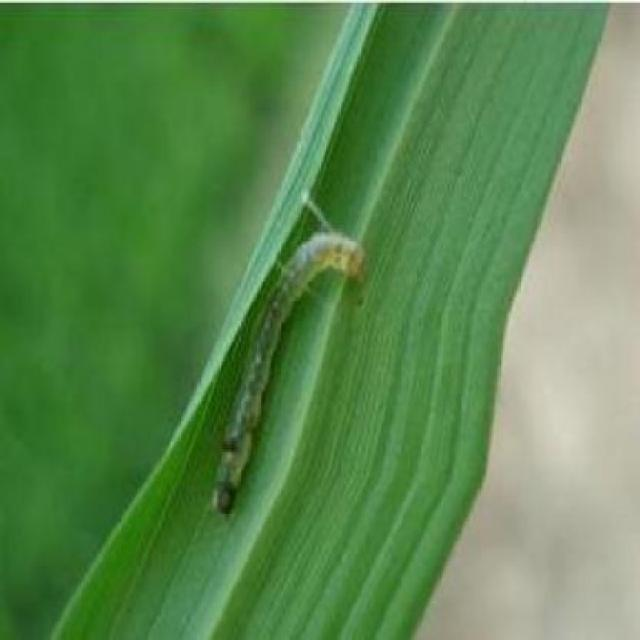leaf-folder: (205, 210, 372, 536)
